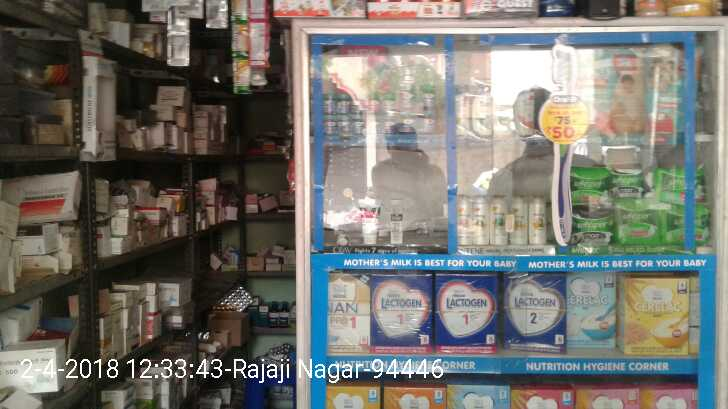vicks: (321, 61, 435, 136)
